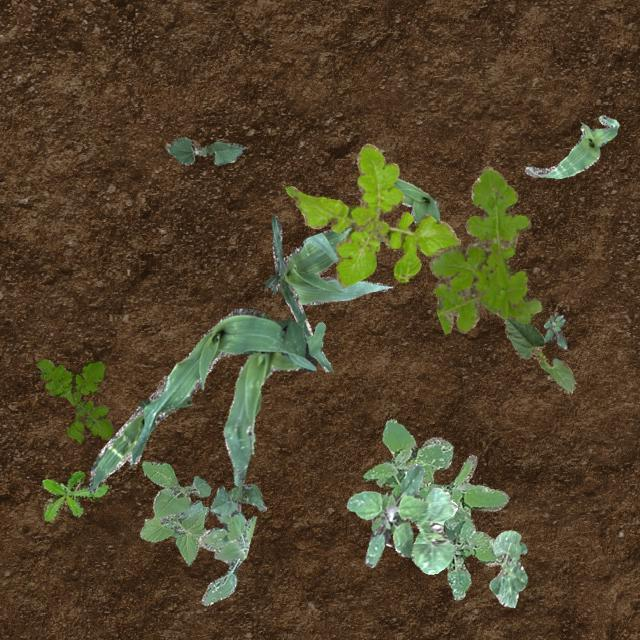crop: (87, 306, 316, 492), (264, 215, 392, 372), (222, 320, 324, 484), (524, 114, 618, 178), (504, 316, 576, 392), (408, 484, 456, 574), (488, 528, 526, 606), (166, 136, 243, 164), (394, 178, 438, 225), (208, 484, 266, 516)
weed: (362, 418, 508, 598), (284, 142, 460, 286), (428, 165, 542, 332), (346, 464, 426, 566), (138, 461, 210, 564), (36, 358, 111, 442), (197, 510, 255, 604), (40, 470, 106, 520), (542, 314, 566, 348)
